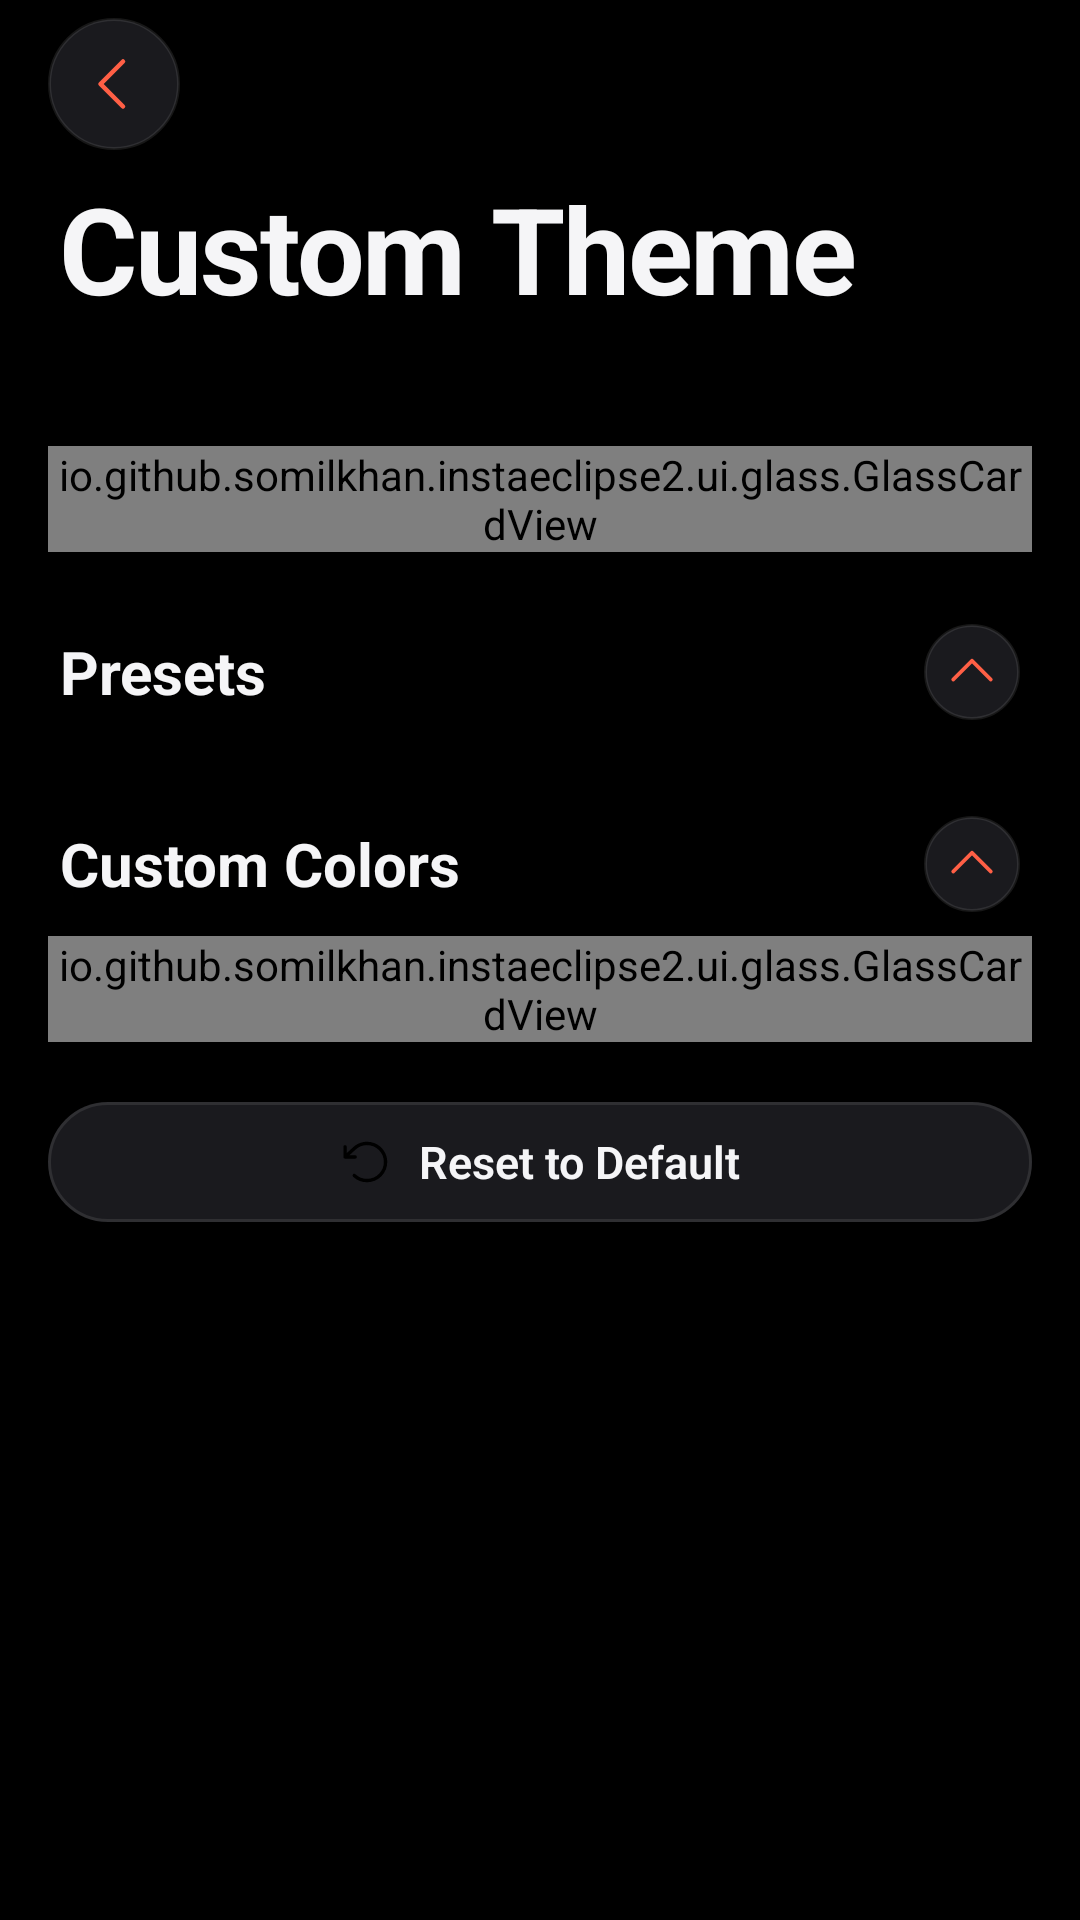

Icon click points for this 1080px×1920px phone screenshot, format (x=x, y=y):
Collapse section: (x=972, y=672), (x=972, y=864)
